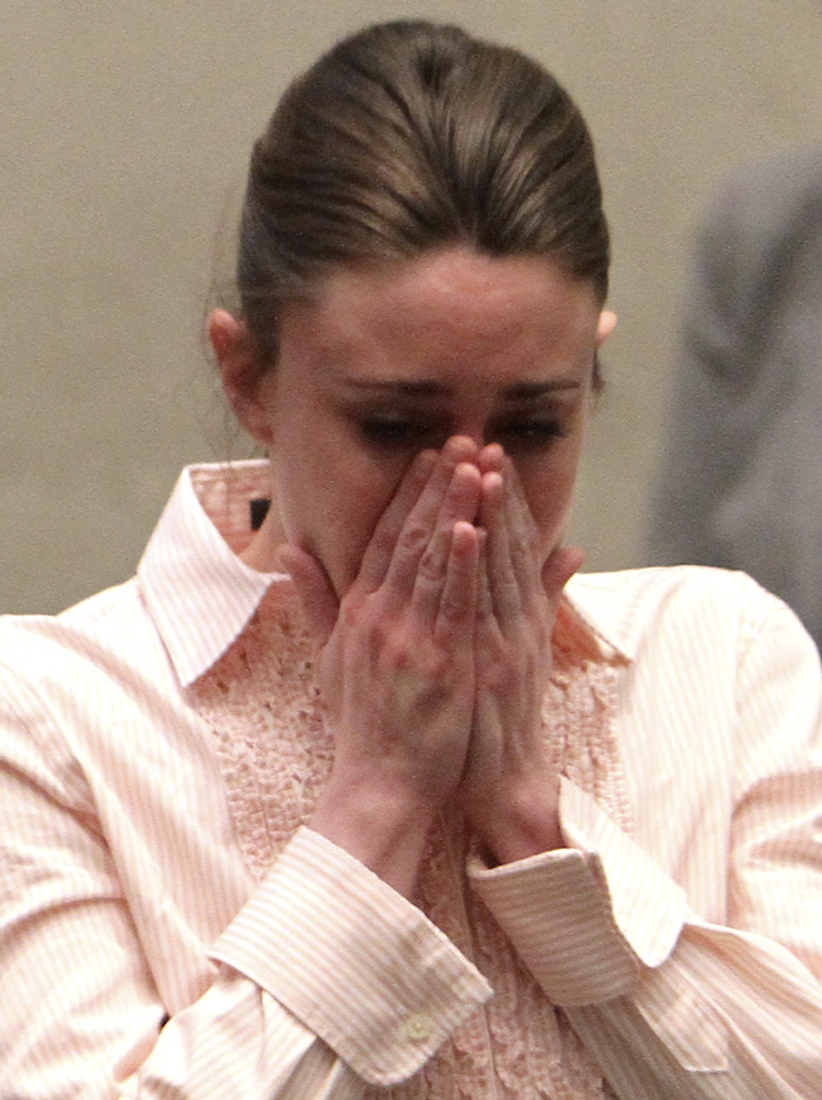face: (295, 229, 587, 633)
